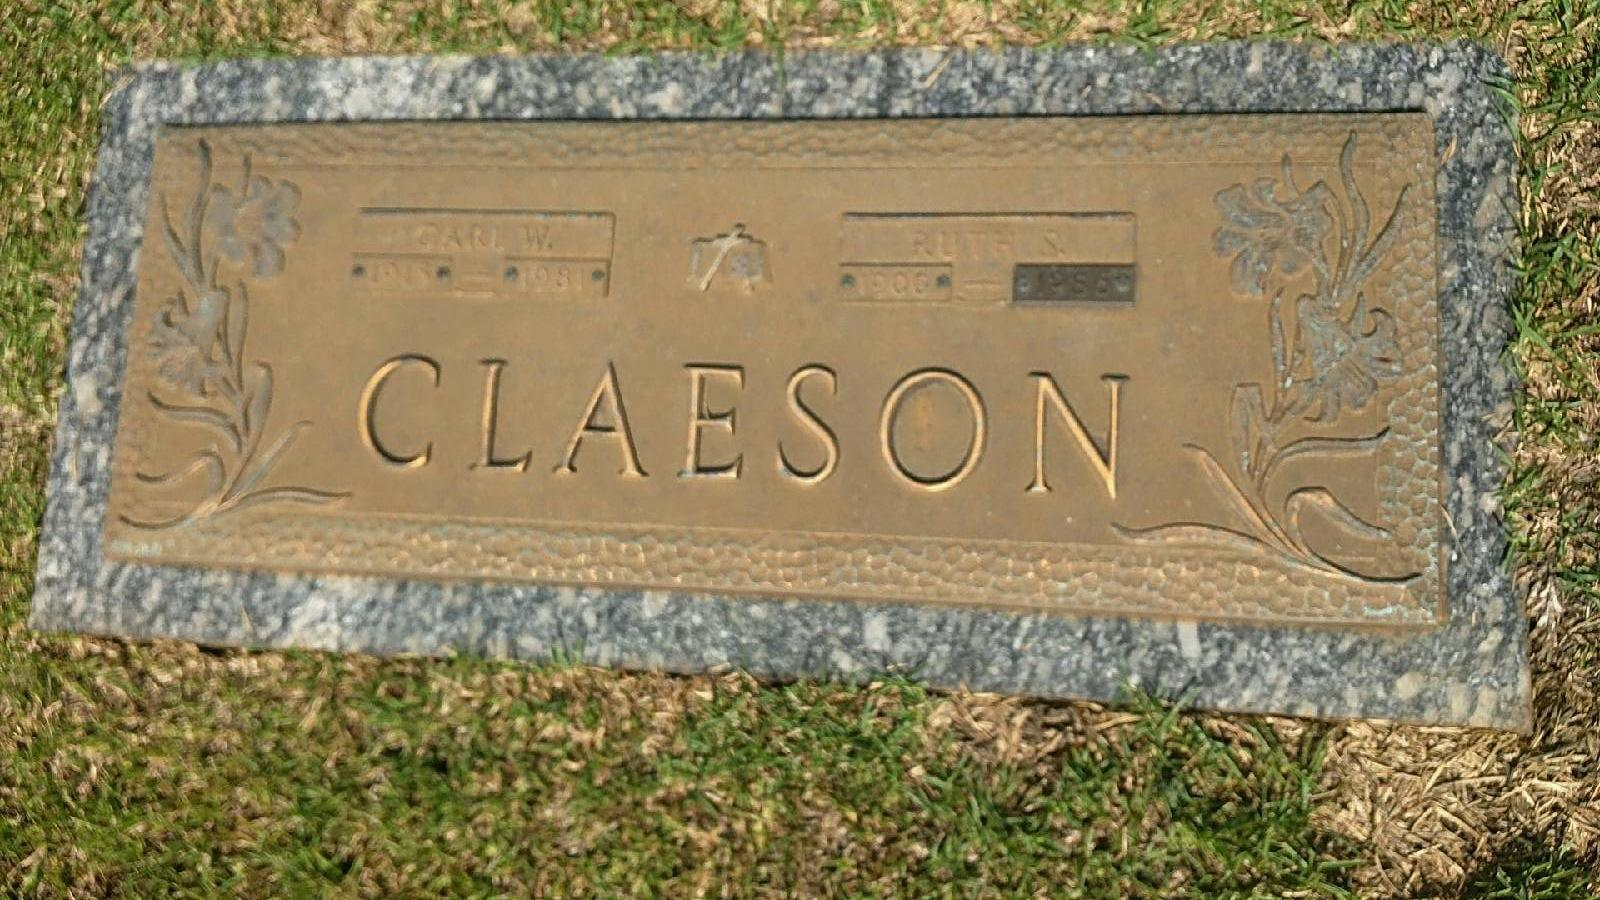flat: (43, 36, 1543, 708)
